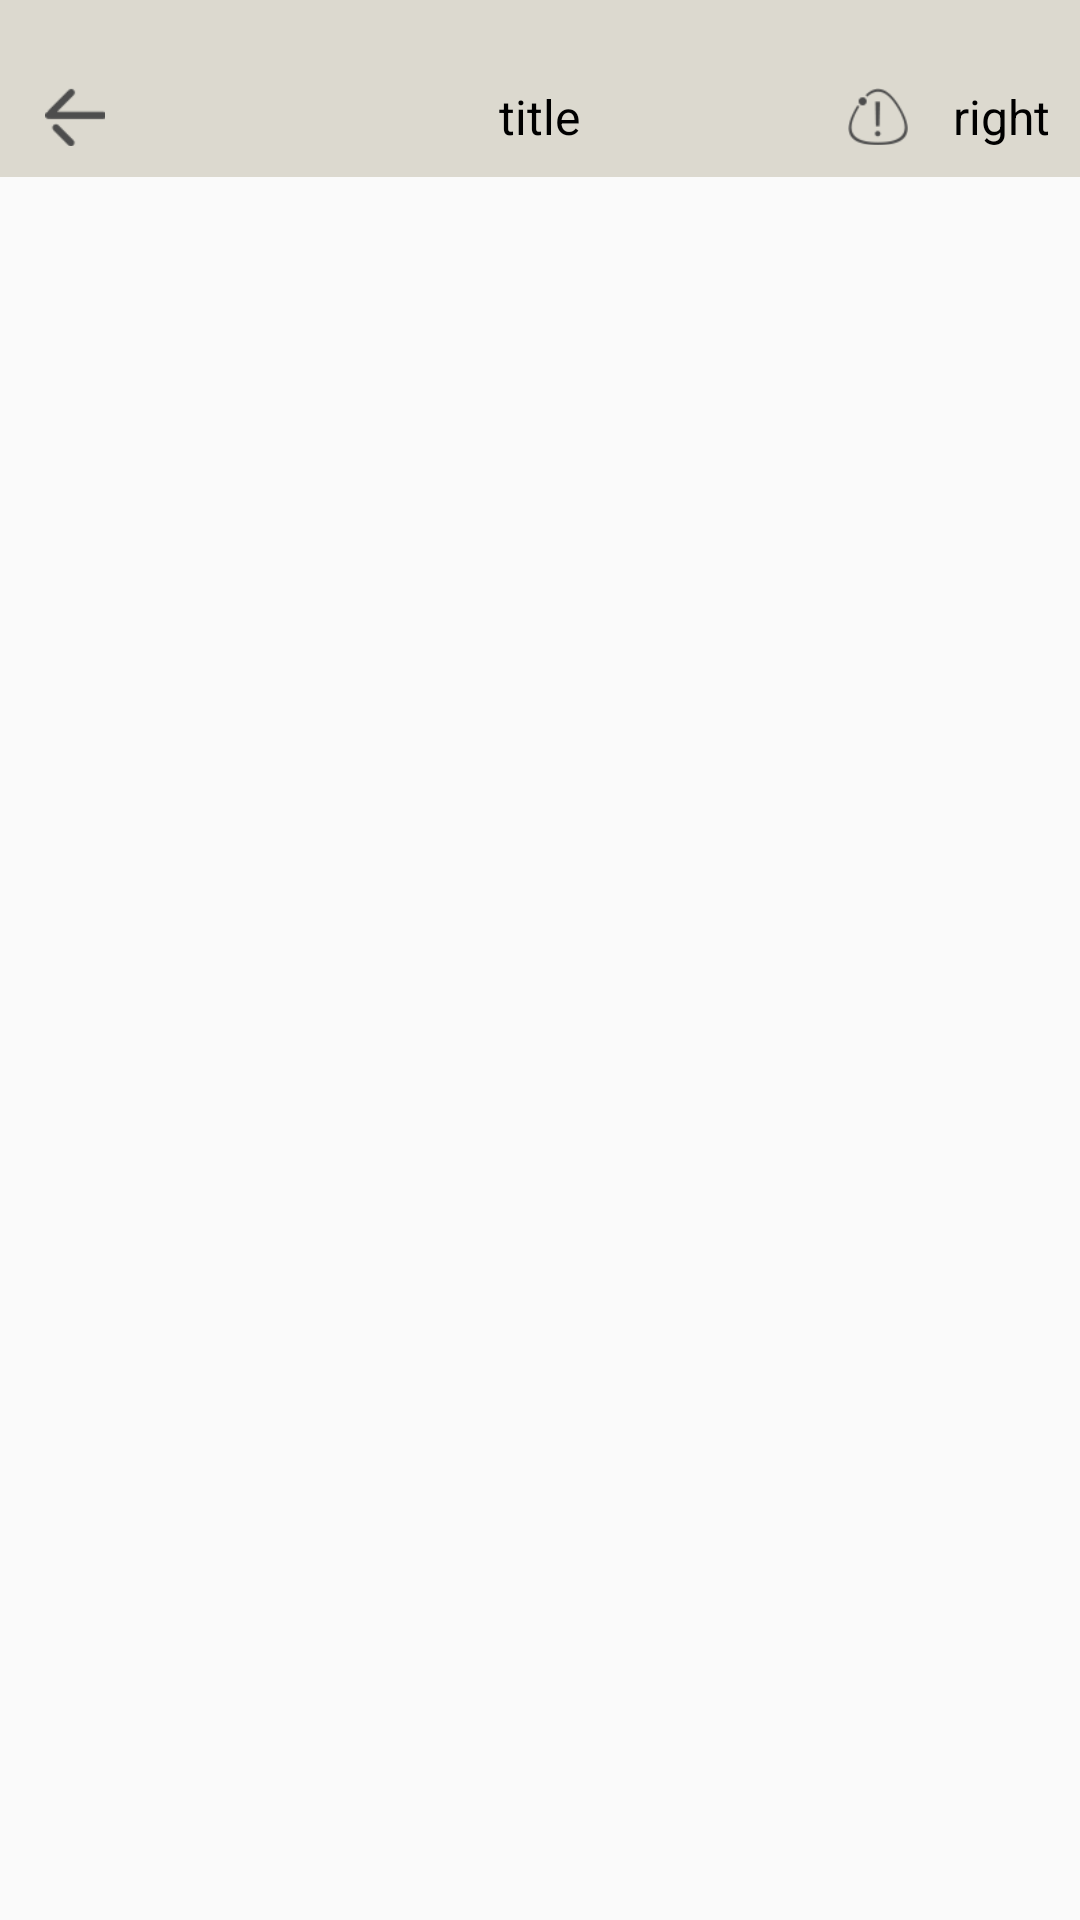

Where icons sit on this 1080*1920 app screen, as (x1, y1, x2, y2):
back: (45, 89, 105, 146)
